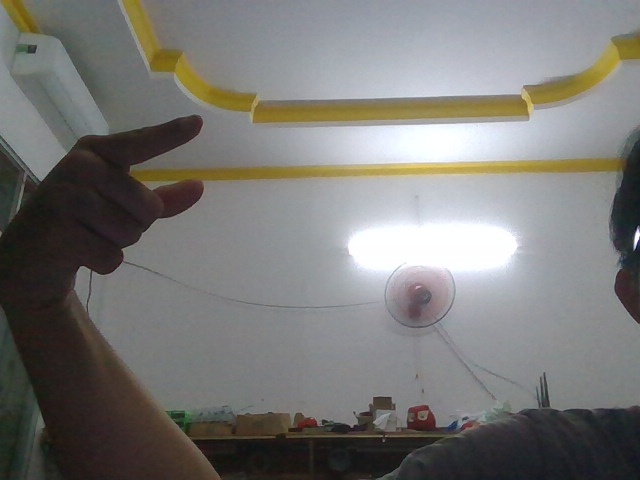turn_left: (1, 98, 212, 309)
